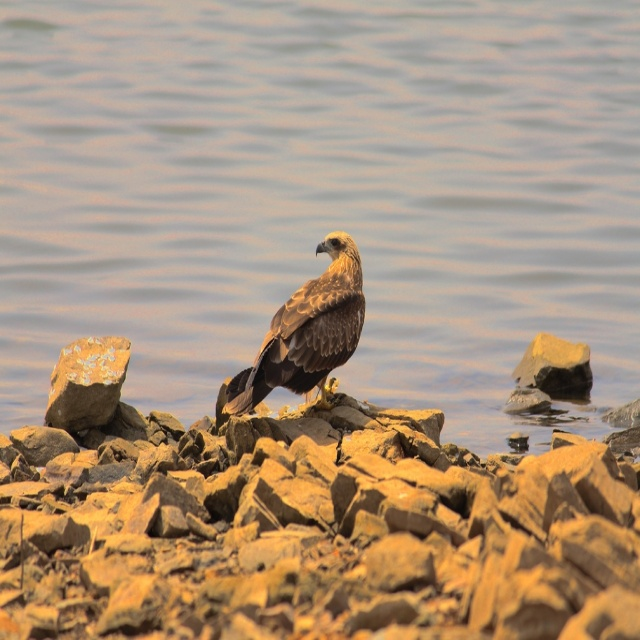Eagle: (225, 226, 366, 424)
